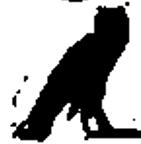Owl: (11, 4, 138, 142)
